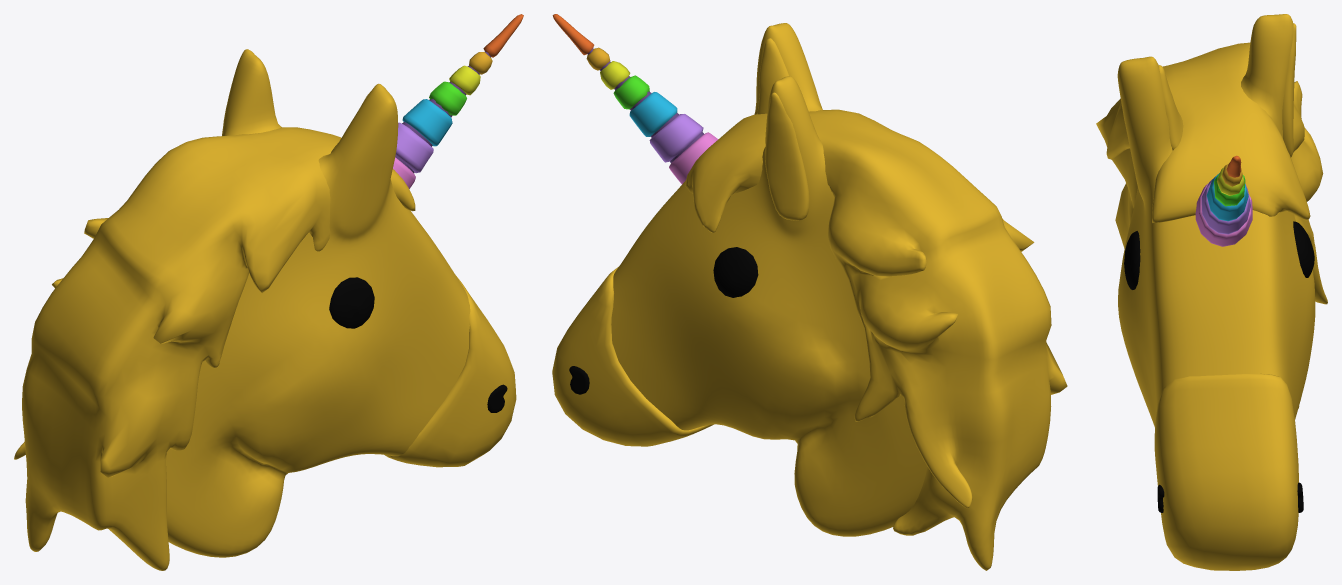
File: unicorn FBX.glb
3 views of the same model, side by side, from view 1: azimuth 30°, elevation 25°; view 2: azimuth 150°, elevation 25°; view 3: azimuth 270°, elevation 25° (orthographic). The views are drawn at different scales.
Visible parts, largest first — view 1: Group32228, Group53749, Horse5, Horse4, Group2, Group4, Group3; view 2: Group32228, Group53749, Horse5, Horse2, Horse4, Group4, Group2, Group5, Group3; view 3: Group53749, Horse5, Group32228, Horse2, Horse4, Group5, Group4, Group2, Group3, Horse6, Group1.
Part boxes in pixels (x1,y1,x2,y2): Group32228: (14, 127, 415, 570); Group53749: (166, 49, 470, 557); Horse5: (385, 276, 516, 467); Horse4: (329, 277, 374, 328); Group2: (402, 99, 452, 146); Group4: (395, 122, 433, 173); Group3: (429, 81, 466, 115); Group32228: (685, 109, 1067, 570); Group53749: (611, 23, 926, 536); Horse5: (552, 266, 713, 446); Horse2: (757, 38, 809, 220); Horse4: (713, 247, 758, 297); Group4: (649, 114, 703, 162); Group2: (629, 92, 677, 136); Group5: (669, 132, 718, 184); Group3: (613, 75, 649, 109); Group53749: (1117, 14, 1315, 427); Horse5: (1154, 373, 1298, 570); Group32228: (1096, 42, 1327, 408); Horse2: (1159, 23, 1296, 157); Horse4: (1124, 221, 1314, 289); Group5: (1195, 183, 1252, 246); Group4: (1201, 178, 1250, 234); Group2: (1206, 173, 1248, 221); Group3: (1214, 173, 1245, 206); Horse6: (1157, 482, 1303, 512); Group1: (1217, 167, 1244, 195).
Bounding box in the file's own units: 0.5386 × 0.4873 × 0.2078.
